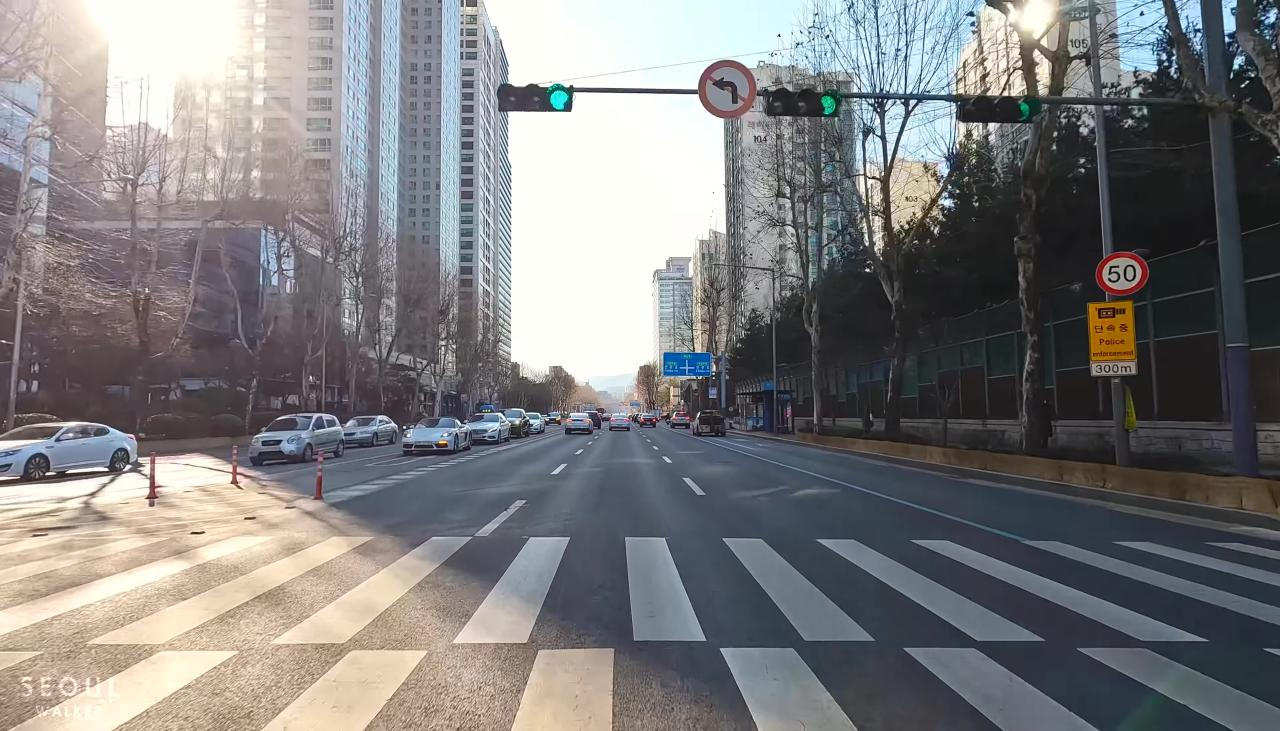Green Light: (543, 85, 573, 113), (819, 93, 839, 118)
